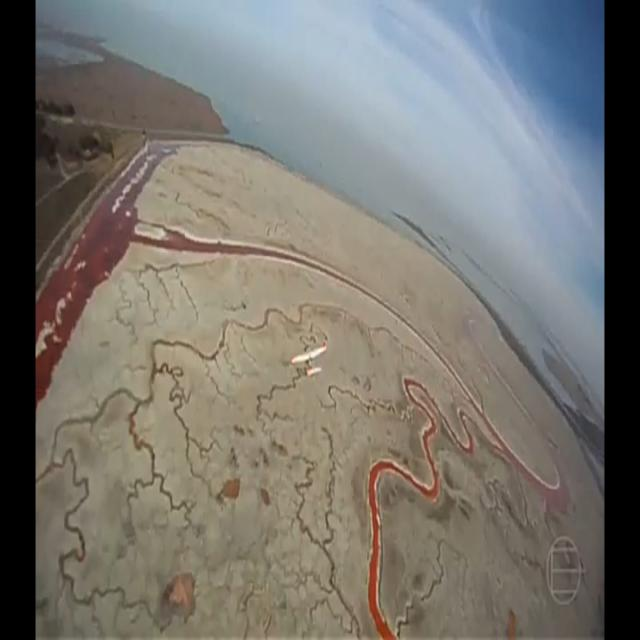iha: (292, 345, 327, 377)
